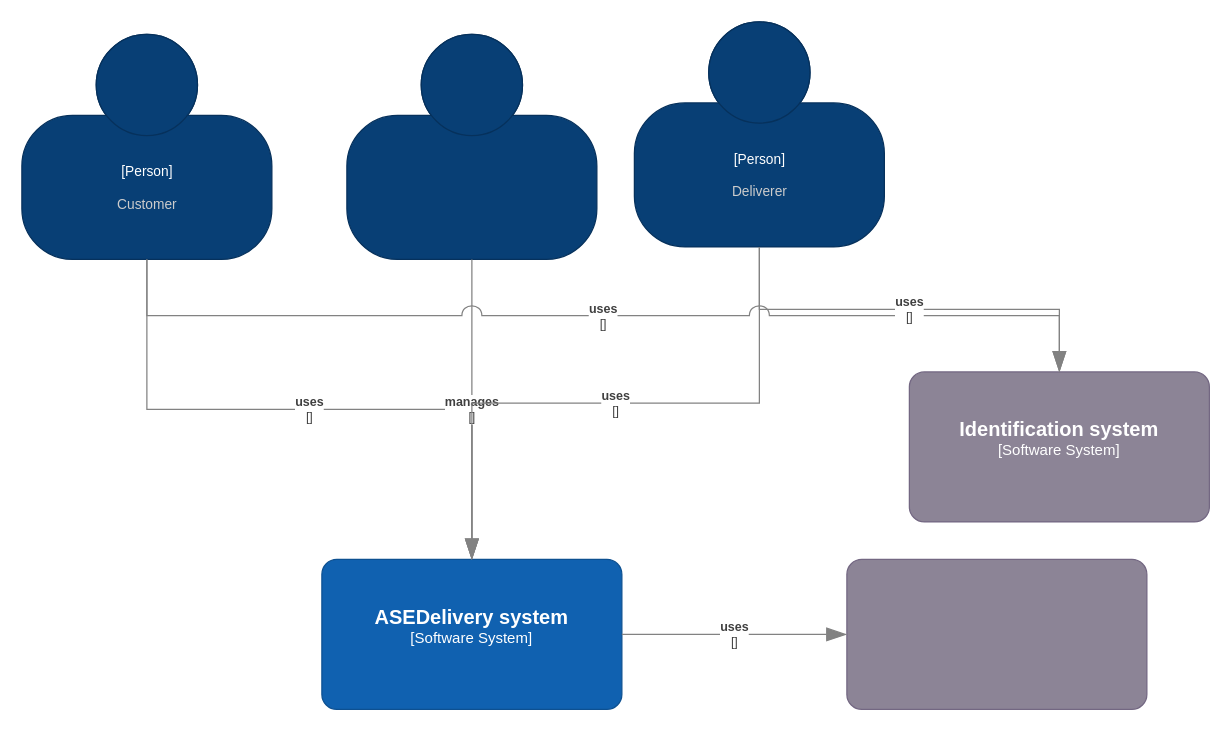
The diagram is 1231 pixels wide and 731 high, and some of its shapes have lost their labels. Here are the shapes that lost their labels. From the top down, the centre of each, then its label:
At point (471, 146): "[Person] Admin".
At point (996, 633): "Post system [Software System]".
